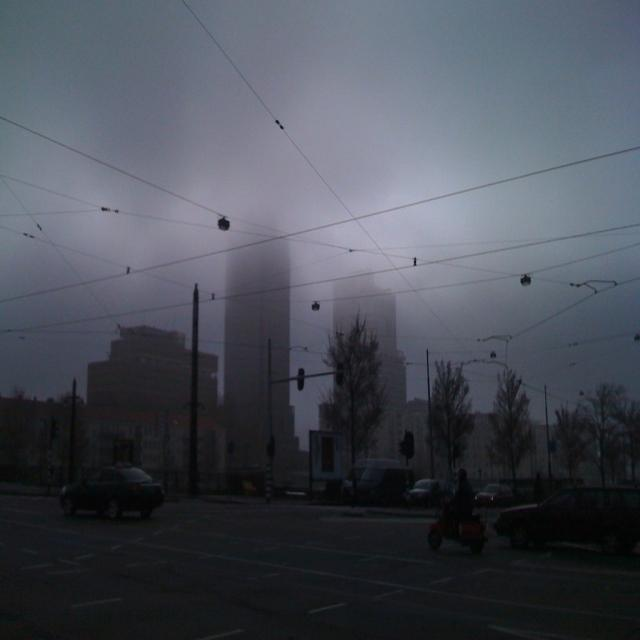car: (56, 462, 166, 522), (402, 476, 447, 504), (473, 476, 512, 507)
